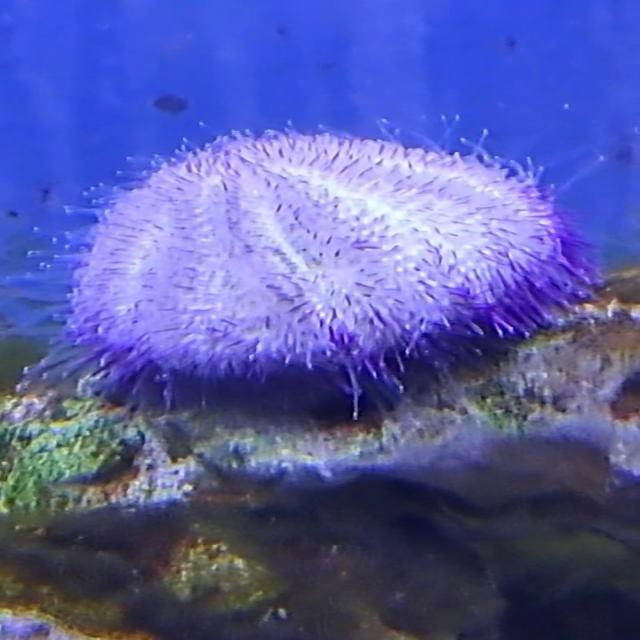Deniz Kestanesi: (39, 120, 610, 419)
